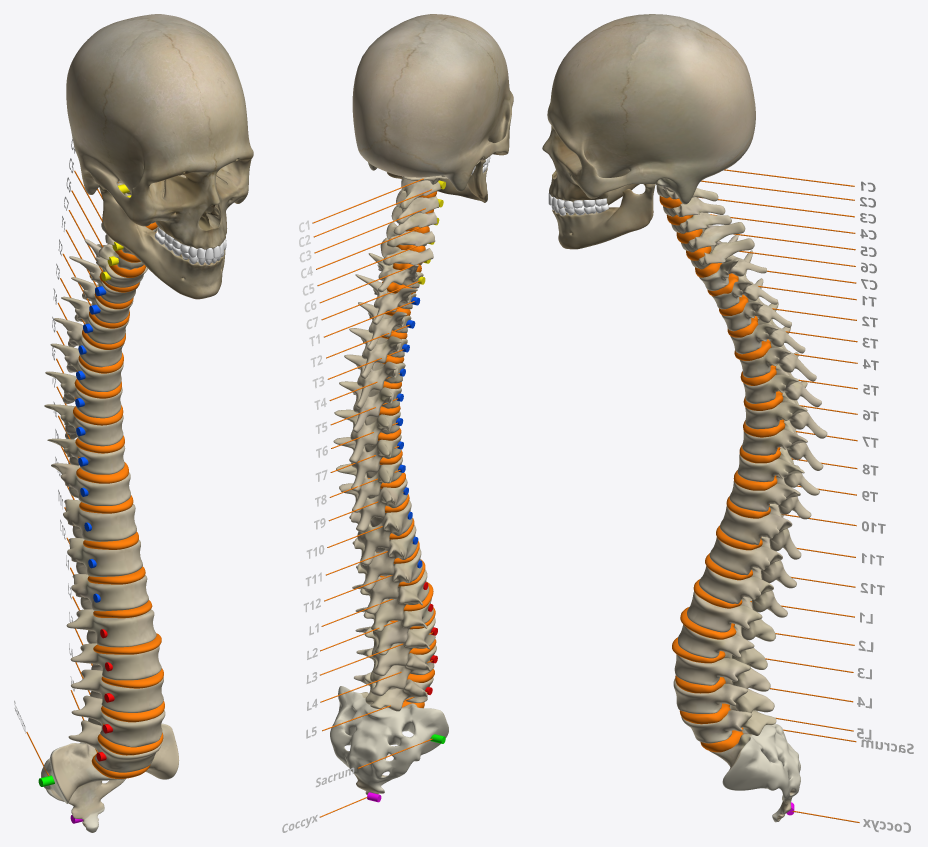
Rendered from the_human_spinal_column_compressed.glb.
3 views of the same model, side by side, from view 1: azimuth 30°, elevation 25°; view 2: azimuth 150°, elevation 25°; view 3: azimuth 270°, elevation 25° (orthographic). The views are drawn at different scales.
Parts seen in each view (by area): view 1: Male_Skeletal_Skull_Geo_skull bones_0, Male_Skeletal_Atlas_Geo_bones back_0, Male_Skeletal_Intervertabral_Discs_Geo_discs_0, Male_Skeletal_Sacrum_Geo_bones sacrum_0, Male_Skeletal_Mandible_Geo_jawbones_0, Cylinder027_markerThorasic_0, Male_Skeletal_Upper_Central_Incisor_Left_Geo_vray Male_Skele, Text001_labels_0; view 2: Male_Skeletal_Atlas_Geo_bones back_0, Male_Skeletal_Skull_Geo_skull bones_0, Male_Skeletal_Sacrum_Geo_bones sacrum_0, Male_Skeletal_Intervertabral_Discs_Geo_discs_0, Text001_labels_0, Male_Skeletal_Mandible_Geo_jawbones_0, Cylinder027_markerThorasic_0; view 3: Male_Skeletal_Atlas_Geo_bones back_0, Male_Skeletal_Skull_Geo_skull bones_0, Male_Skeletal_Intervertabral_Discs_Geo_discs_0, Male_Skeletal_Sacrum_Geo_bones sacrum_0, Male_Skeletal_Mandible_Geo_jawbones_0, Text001_labels_0.
Part boxes in pixels (box(x1,y1,x2,y2)): Male_Skeletal_Skull_Geo_skull bones_0: box(66, 14, 253, 249); Male_Skeletal_Atlas_Geo_bones back_0: box(44, 182, 165, 772); Male_Skeletal_Intervertabral_Discs_Geo_discs_0: box(26, 170, 164, 778); Male_Skeletal_Sacrum_Geo_bones sacrum_0: box(41, 723, 179, 832); Male_Skeletal_Mandible_Geo_jawbones_0: box(99, 185, 225, 299); Cylinder027_markerThorasic_0: box(75, 286, 106, 602); Male_Skeletal_Upper_Central_Incisor_Left_Geo_vray Male_Skele: box(172, 238, 226, 265); Text001_labels_0: box(14, 139, 75, 733); Male_Skeletal_Atlas_Geo_bones back_0: box(333, 175, 447, 711); Male_Skeletal_Skull_Geo_skull bones_0: box(352, 14, 513, 191); Male_Skeletal_Sacrum_Geo_bones sacrum_0: box(330, 686, 448, 794); Male_Skeletal_Intervertabral_Discs_Geo_discs_0: box(312, 178, 440, 817); Text001_labels_0: box(282, 220, 354, 832); Male_Skeletal_Mandible_Geo_jawbones_0: box(387, 160, 487, 202); Cylinder027_markerThorasic_0: box(396, 297, 422, 568); Male_Skeletal_Atlas_Geo_bones back_0: box(656, 185, 827, 743); Male_Skeletal_Skull_Geo_skull bones_0: box(542, 14, 755, 204); Male_Skeletal_Intervertabral_Discs_Geo_discs_0: box(659, 169, 859, 822); Male_Skeletal_Sacrum_Geo_bones sacrum_0: box(709, 710, 800, 822); Male_Skeletal_Mandible_Geo_jawbones_0: box(552, 184, 655, 249); Text001_labels_0: box(857, 181, 913, 832).
Size of the model in its own units: 13.87 by 81.66 by 34.39.
12 materials, 4 textured.
